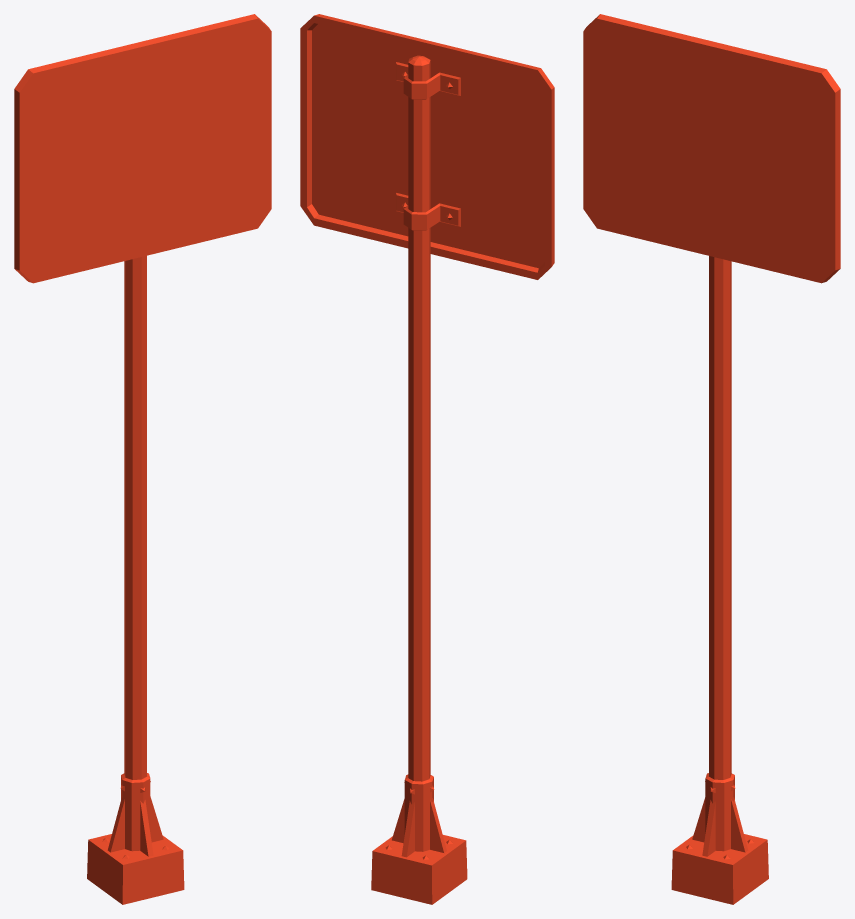
The model's file is SM_Sign_Digress_B_City.fbx.
3 views of the same model, side by side, from view 1: azimuth 30°, elevation 25°; view 2: azimuth 150°, elevation 25°; view 3: azimuth 330°, elevation 25° (orthographic).
Visible parts, largest first — view 1: SM_Sign_Digress_B_City; view 2: SM_Sign_Digress_B_City; view 3: SM_Sign_Digress_B_City.
Part boxes in pixels (x1,y1,x2,y2): SM_Sign_Digress_B_City: [14, 14, 271, 904]; SM_Sign_Digress_B_City: [300, 14, 554, 904]; SM_Sign_Digress_B_City: [583, 14, 840, 904].
Bounding box in the file's own units: 0.7567 × 2.41 × 0.1839.
